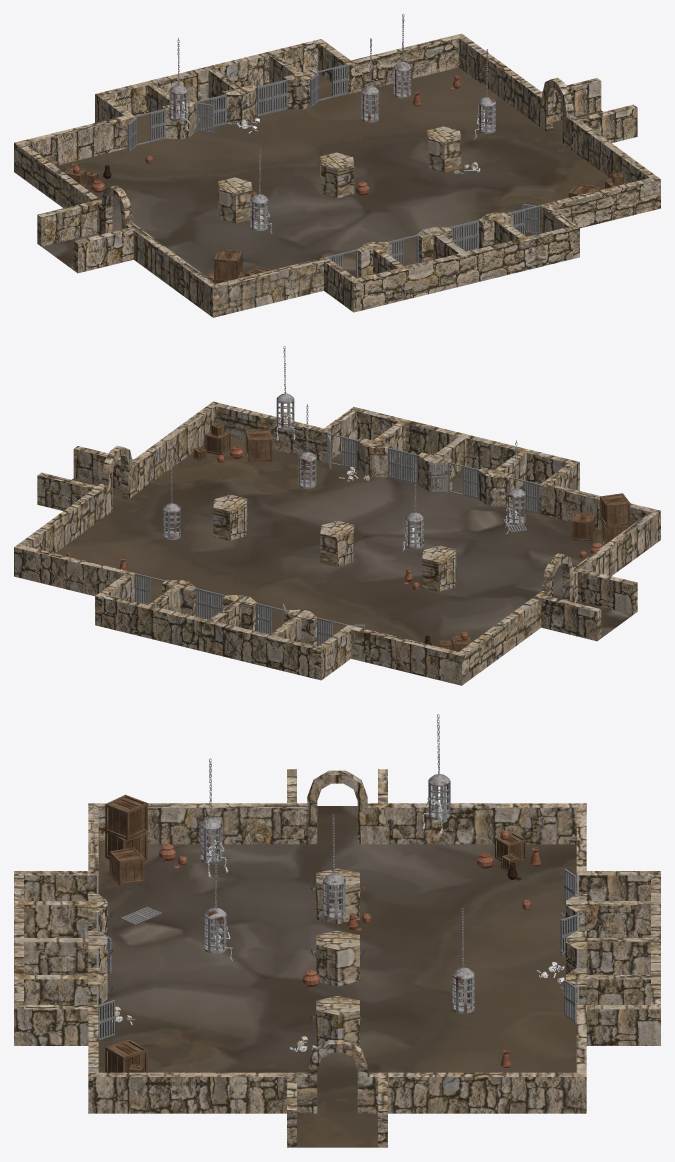
File: room2.glb
The picture shows the model from 3 angles, top to bottom: view 1: azimuth 30°, elevation 25°; view 2: azimuth 150°, elevation 25°; view 3: azimuth 270°, elevation 25°; orthographic projection. The views are drawn at different scales.
Visible parts, largest first — view 1: sciany.004, sciany.005, sciany.001, sciany.002, sciany.003, kraty_7, kraty_6, Cube.005, kraty_9, kraty_8, kraty_3, kraty (+5 smaller); view 2: sciany.004, sciany.005, sciany.002, sciany.003, sciany.001, kraty_2, Cube.005, kraty, Cube.006, kraty_6, kraty_3, Cube.007 (+9 smaller); view 3: sciany.004, sciany.005, sciany.001, sciany.002, Cube.005, sciany.003, Cube.007, Cube.006, klatka_2, klatka_4, klatka, klatka_5 (+4 smaller).
Part boxes in pixels (bbox=[...]): sciany.004: bbox=[41, 67, 610, 278]; sciany.005: bbox=[14, 33, 660, 317]; sciany.001: bbox=[320, 152, 354, 198]; sciany.002: bbox=[427, 126, 461, 172]; sciany.003: bbox=[218, 177, 252, 223]; kraty_7: bbox=[196, 94, 226, 132]; kraty_6: bbox=[257, 79, 287, 116]; Cube.005: bbox=[214, 249, 242, 281]; kraty_9: bbox=[126, 109, 165, 151]; kraty_8: bbox=[310, 64, 347, 106]; kraty_3: bbox=[509, 203, 539, 236]; kraty: bbox=[449, 220, 478, 251]; sciany.004: bbox=[55, 439, 632, 649]; sciany.005: bbox=[14, 401, 660, 685]; sciany.002: bbox=[213, 494, 247, 540]; sciany.003: bbox=[422, 545, 456, 591]; sciany.001: bbox=[320, 520, 354, 566]; kraty_2: bbox=[431, 462, 478, 499]; Cube.005: bbox=[600, 493, 630, 527]; kraty: bbox=[388, 448, 417, 484]; Cube.006: bbox=[245, 429, 272, 462]; kraty_6: bbox=[195, 588, 225, 619]; kraty_3: bbox=[327, 433, 357, 469]; Cube.007: bbox=[571, 512, 595, 540]; sciany.004: bbox=[98, 806, 576, 1147]; sciany.005: bbox=[14, 769, 660, 1147]; sciany.001: bbox=[316, 930, 359, 986]; sciany.002: bbox=[316, 996, 359, 1047]; Cube.005: bbox=[105, 794, 147, 839]; sciany.003: bbox=[316, 868, 359, 923]; Cube.007: bbox=[109, 847, 144, 885]; Cube.006: bbox=[105, 1039, 147, 1072]; klatka_2: bbox=[323, 873, 345, 919]; klatka_4: bbox=[452, 967, 474, 1013]; klatka: bbox=[204, 907, 226, 953]; klatka_5: bbox=[428, 774, 450, 820].
Size of the model in its own units: 40 by 10.52 by 32.
12 materials, 10 textured.
